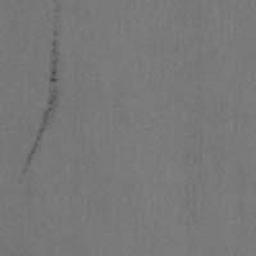Inclusion: (22, 29, 61, 175)
